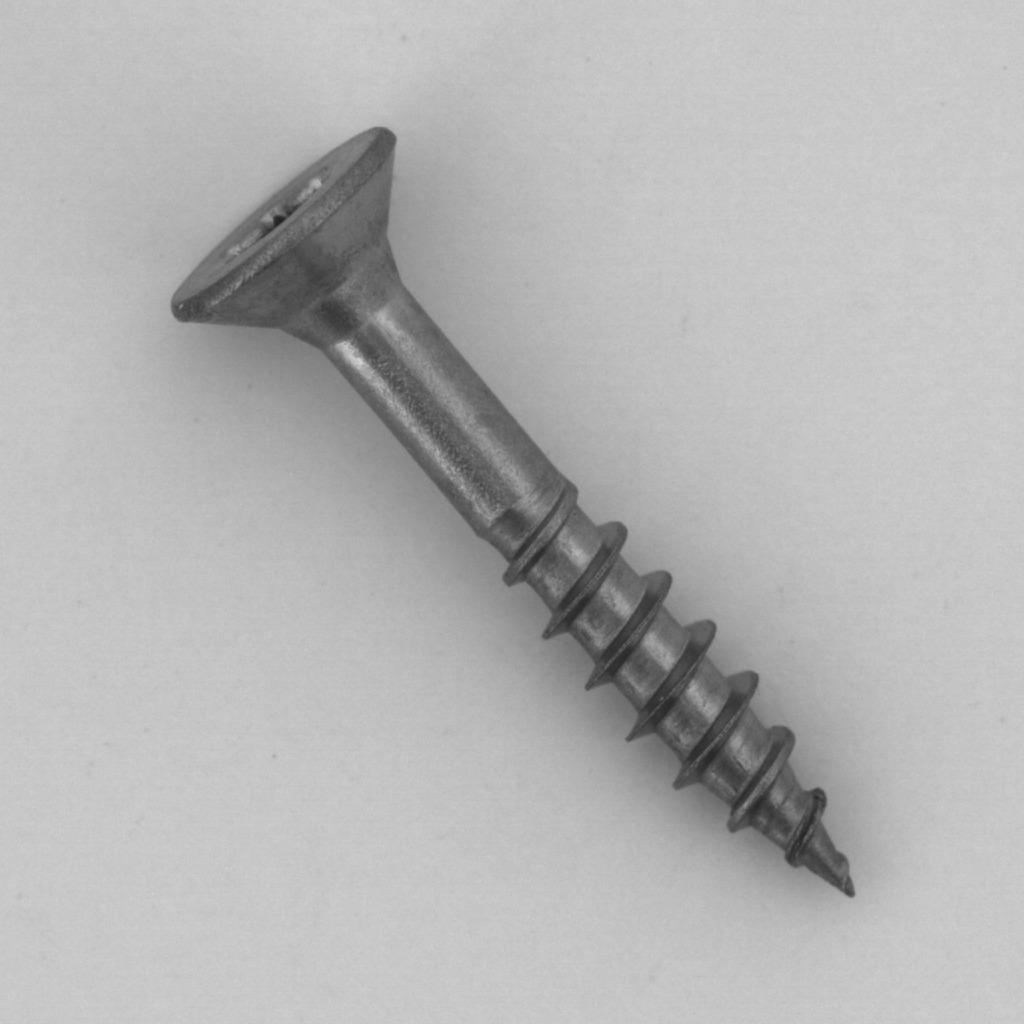good: (156, 113, 871, 920)
